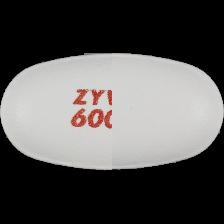0009-5135: (0, 0, 224, 224)
